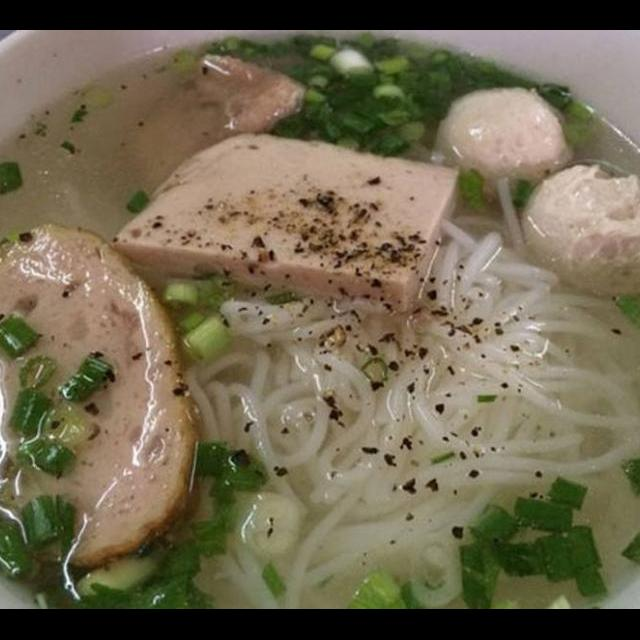bun: (198, 212, 640, 557)
